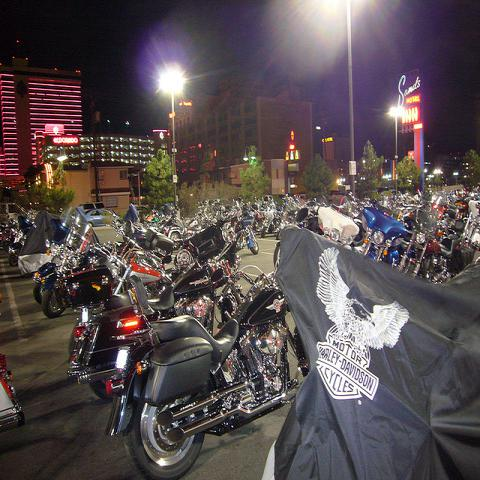car: (85, 206, 123, 228), (0, 202, 28, 220), (78, 201, 106, 213)
motorcycle: (107, 266, 310, 474), (55, 218, 243, 402), (41, 203, 119, 320), (91, 221, 190, 300), (32, 206, 80, 308), (354, 192, 408, 266), (399, 207, 448, 284), (312, 206, 366, 252), (225, 208, 259, 256), (8, 210, 37, 266), (284, 208, 318, 233), (1, 215, 22, 250), (259, 204, 278, 238)
